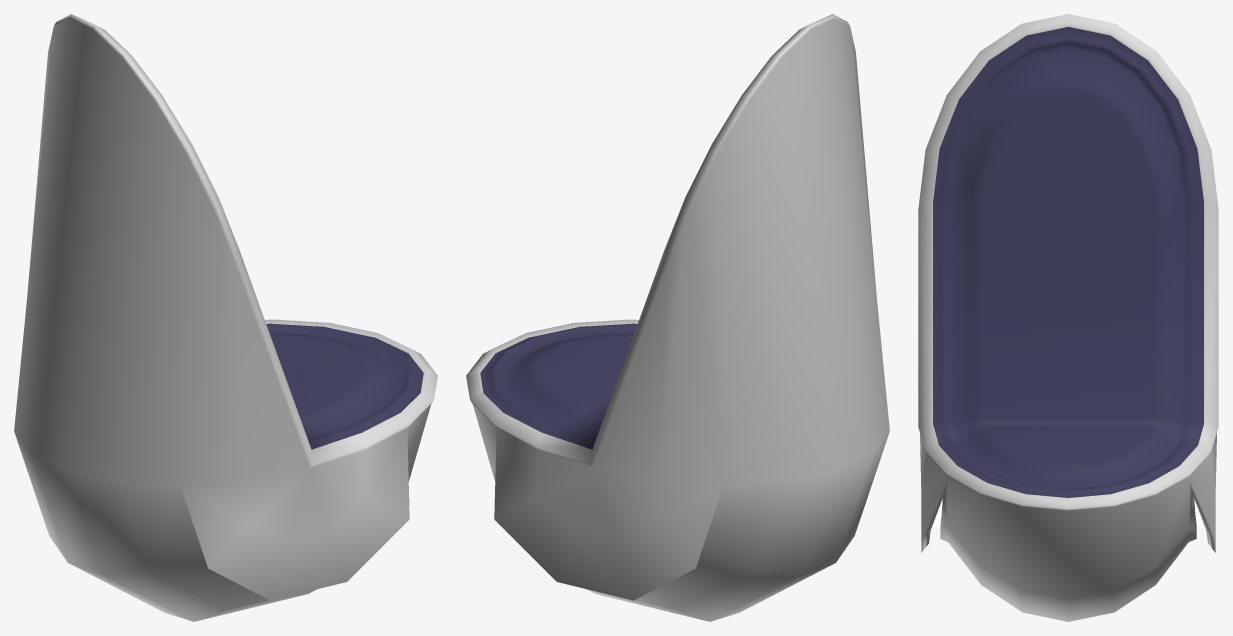
File: Bridge_Chair.fbx
3 renders of one model, left to right at view 1: azimuth 30°, elevation 25°; view 2: azimuth 150°, elevation 25°; view 3: azimuth 270°, elevation 25°, orthographic. The views are drawn at different scales.
Parts seen in each view (by area): view 1: Bridge_Chair; view 2: Bridge_Chair; view 3: Bridge_Chair.
Boxes of the visible parts, x1=… form: Bridge_Chair: x1=14, y1=14, x2=437, y2=621; Bridge_Chair: x1=466, y1=14, x2=889, y2=621; Bridge_Chair: x1=918, y1=14, x2=1218, y2=621.
Size of the model in its own units: 293 by 434 by 224.
